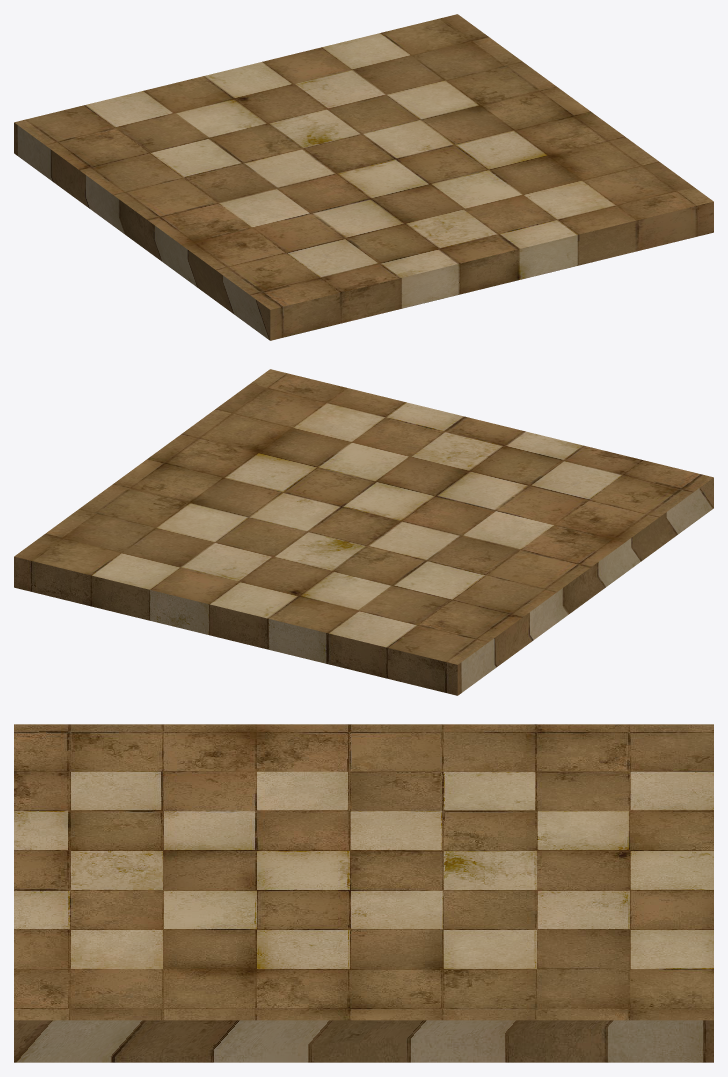
Rendered from HospitalModular_floor.glb.
3 renders of one model, top to bottom at view 1: azimuth 30°, elevation 25°; view 2: azimuth 150°, elevation 25°; view 3: azimuth 270°, elevation 25°, orthographic. The views are drawn at different scales.
Parts seen in each view (by area): view 1: Floor; view 2: Floor; view 3: Floor.
Part boxes in pixels (left/top/right/bottom): Floor: left=14, top=14, right=713, bottom=340; Floor: left=14, top=369, right=713, bottom=695; Floor: left=14, top=724, right=713, bottom=1062.
Size of the model in its own units: 3 by 0.2 by 3.
2 materials, 2 textured.
